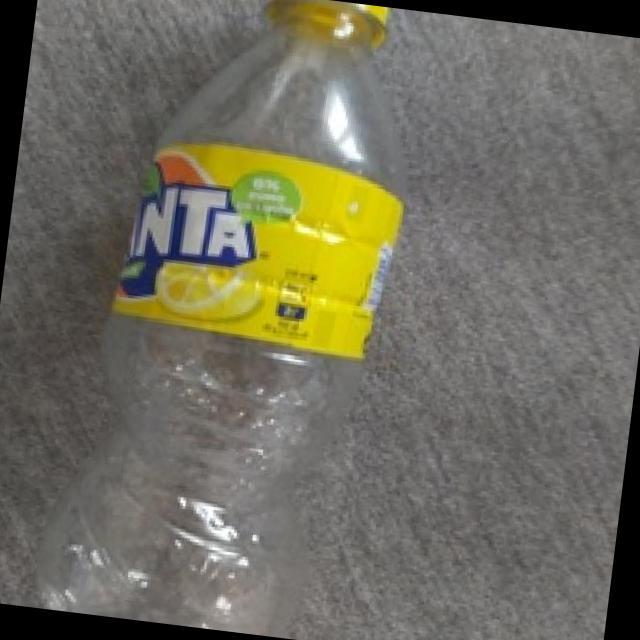good: (27, 0, 439, 640)
